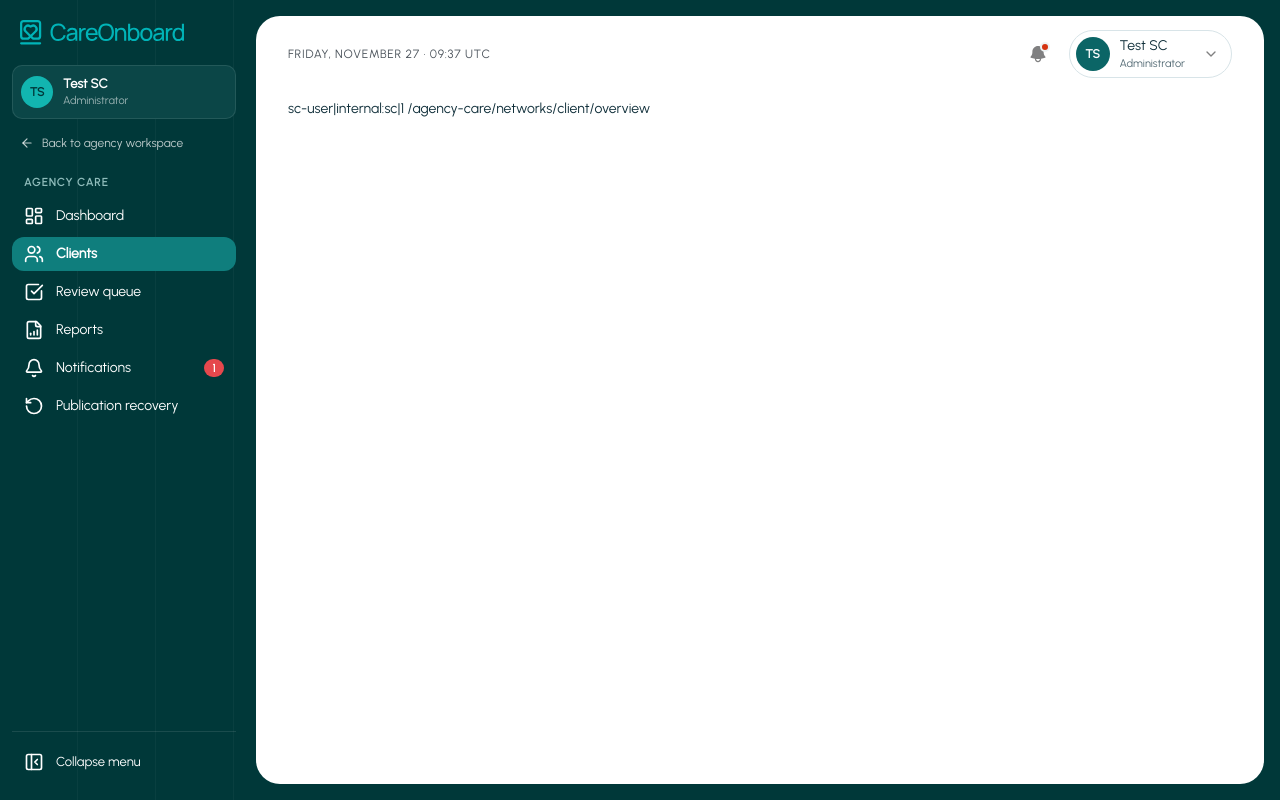
Test: uses the shared chrome, navigates and highlights care sections without native product requests
Expected: the text "sc-user|internal:sc|1 /agency-care/networks/client/overview" is shown, [288,100,650,117]
Click the button "Clients": (124, 254) [12,237,236,271]
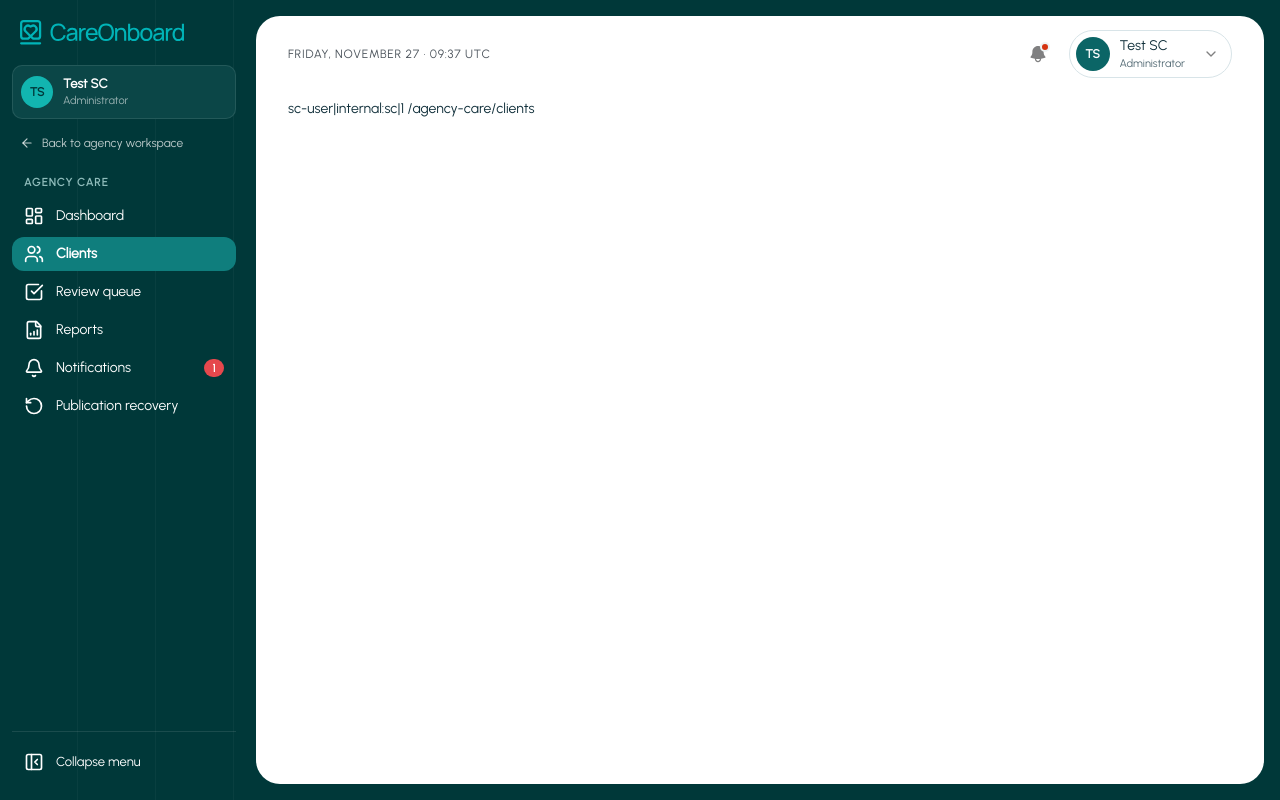
Expected: the button with aria-label "Notifications, 1 new" is shown, [12,351,236,385]
Expected: the text with test id "care-scope" shows "/agency-care/clients", [408,100,534,117]
Click the button "Review queue": (124, 292) [12,275,236,309]
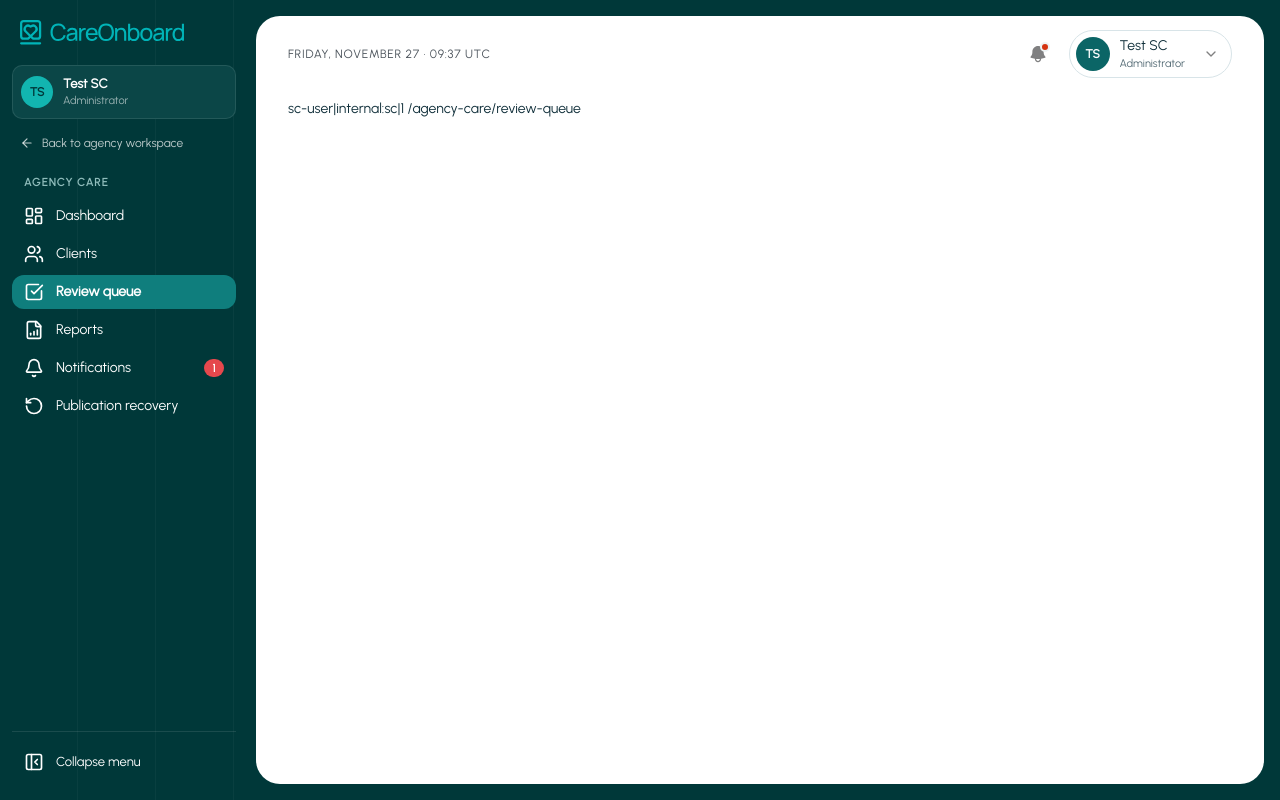
Expected: the button "Review queue" is marked as current, [12,275,236,309]
Expected: the button "Clients" does not have attribute aria-current, [12,237,236,271]
Click the button "Reports": (124, 330) [12,313,236,347]
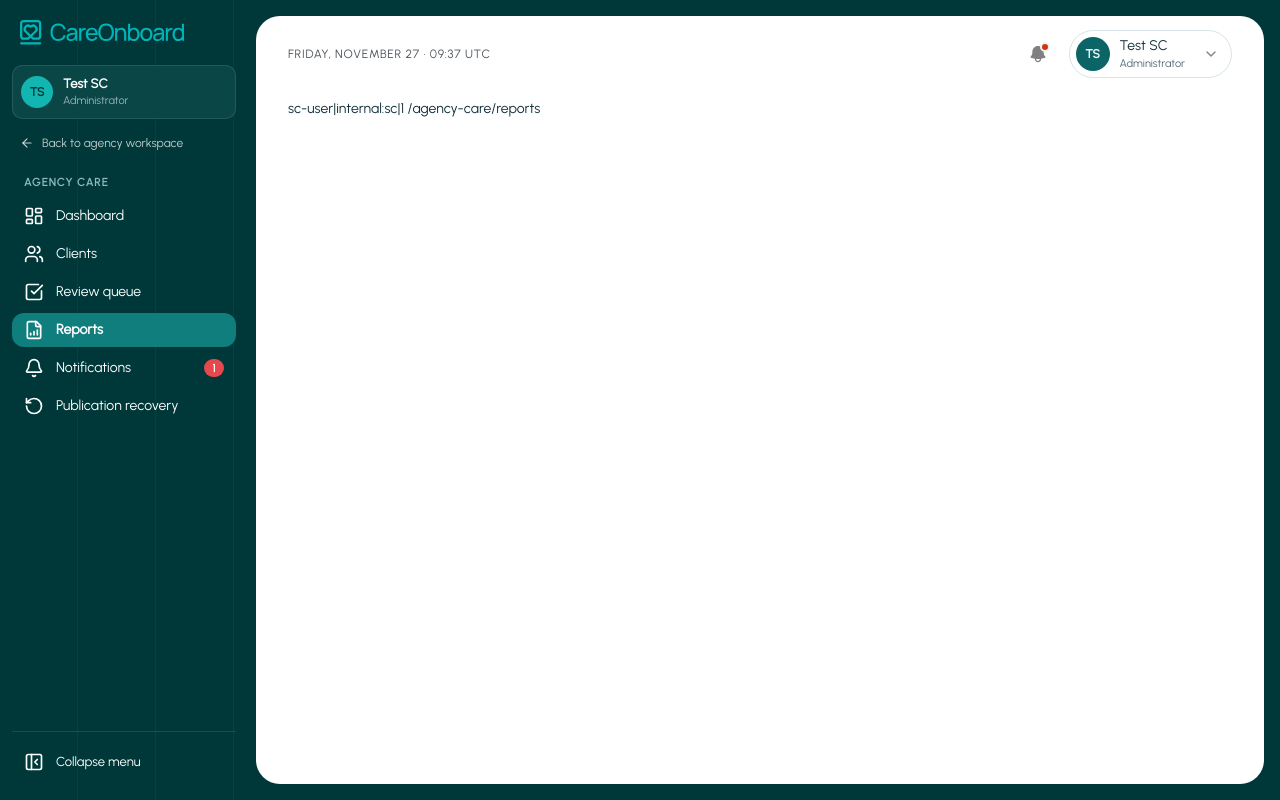
Expected: the button "Reports" is marked as current, [12,313,236,347]
Expected: the button "Clients" does not have attribute aria-current, [12,237,236,271]
Click the button with aria-label "Notifications, 1 new": (124, 368) [12,351,236,385]
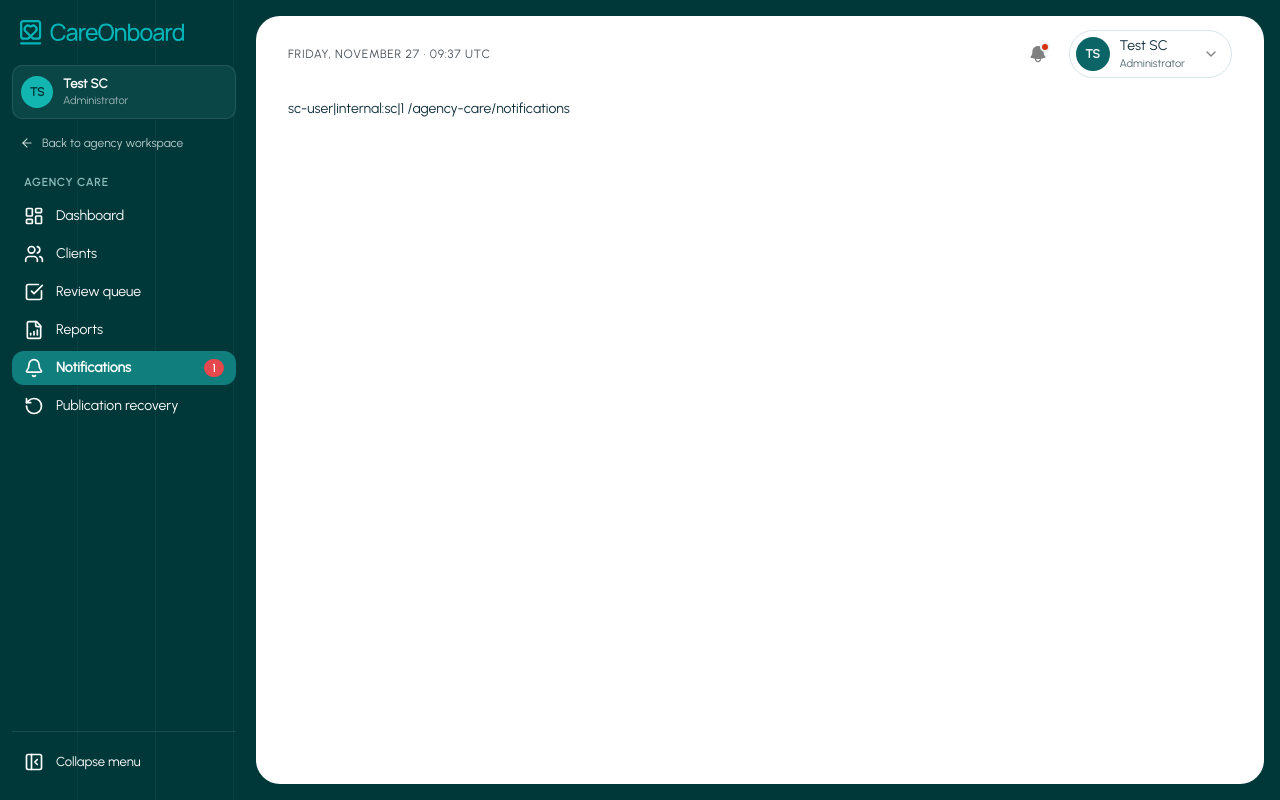
Expected: the button with aria-label "Notifications, 1 new" is marked as current, [12,351,236,385]
Expected: the button "Clients" does not have attribute aria-current, [12,237,236,271]
Click the button "Publication recovery": (124, 406) [12,389,236,423]
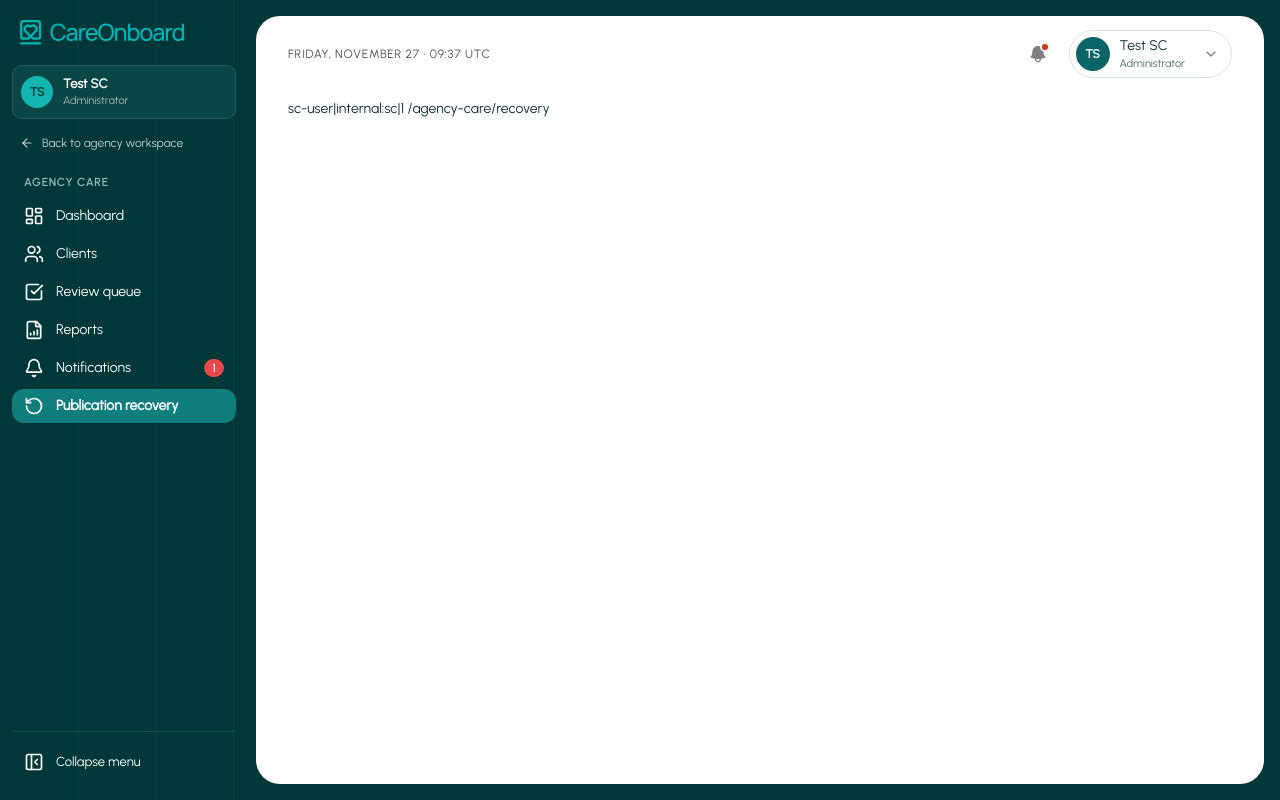
Expected: the button "Publication recovery" is marked as current, [12,389,236,423]
Expected: the button "Clients" does not have attribute aria-current, [12,237,236,271]
Click the button named "Care notifications (1 unread)": (1038, 54) [1016,33,1058,75]
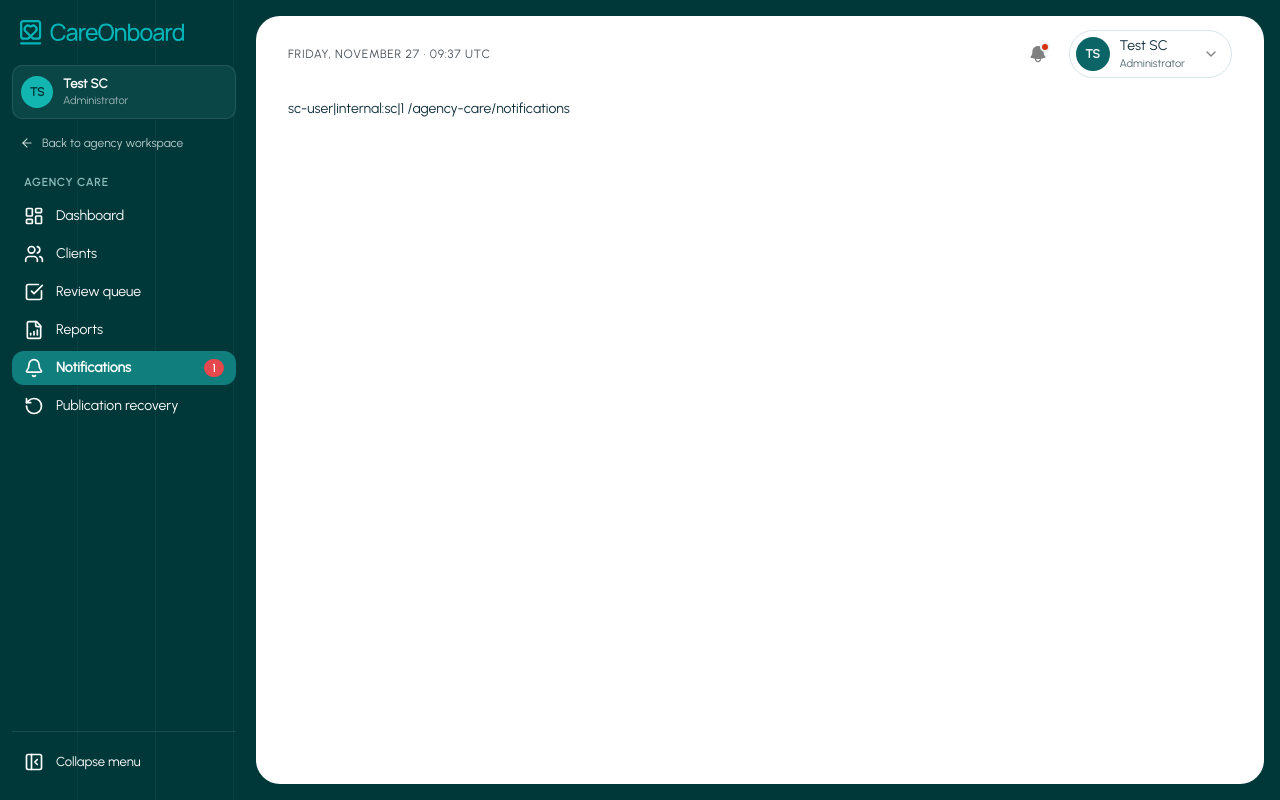
Expected: the text with test id "care-scope" shows "/agency-care/notifications", [408,100,570,117]
